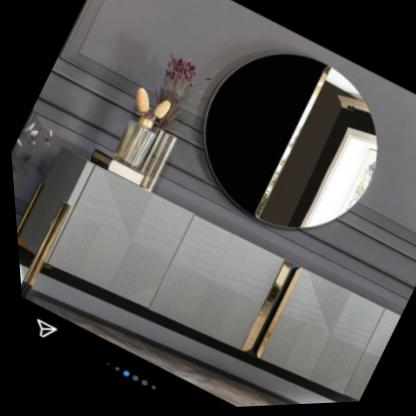Sideboard: (13, 148, 396, 405)
